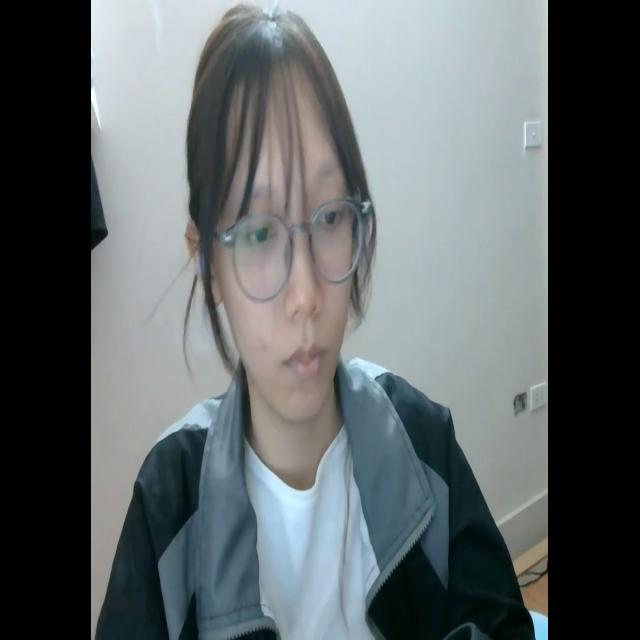student: (101, 3, 534, 640)
